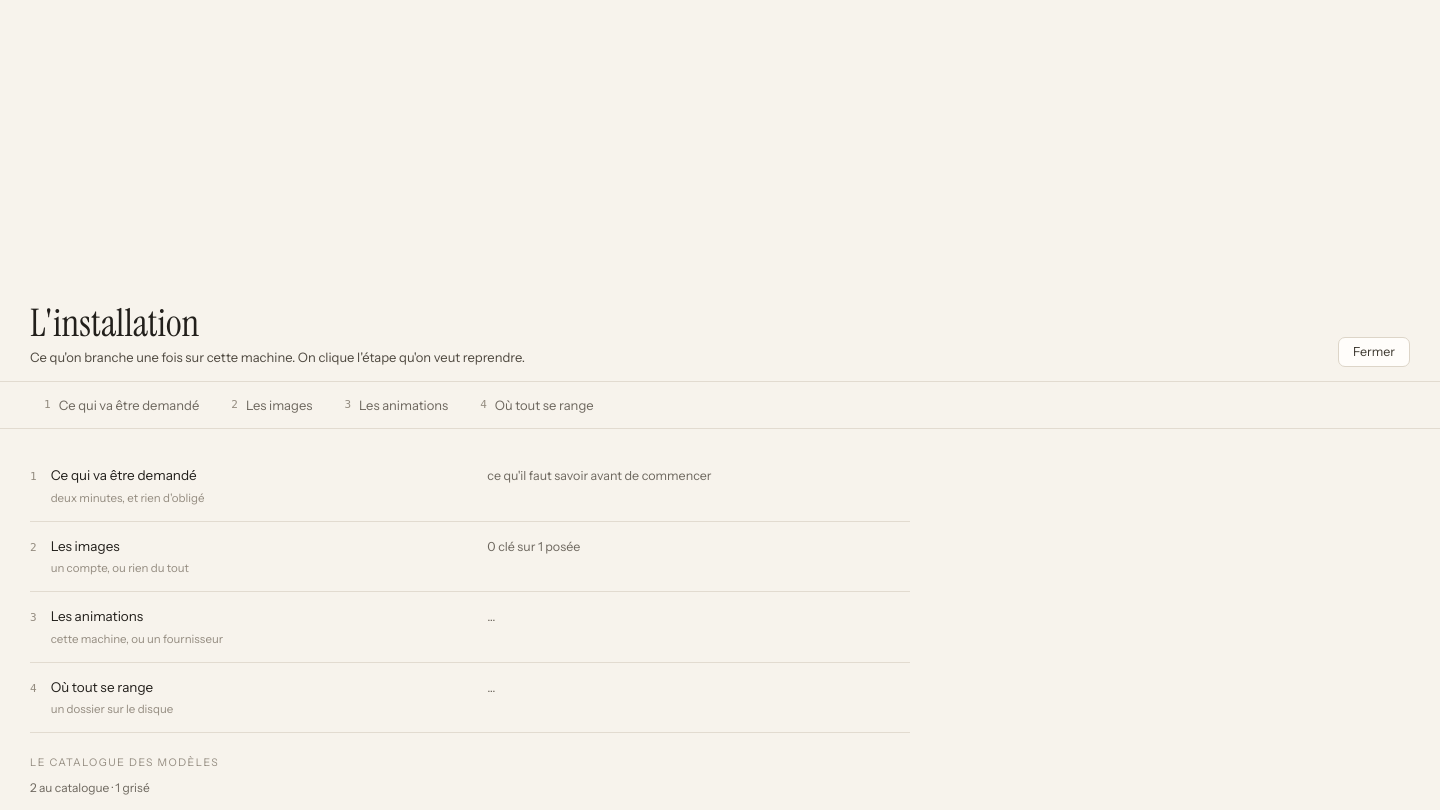
Test: la clé se pose, et ne se relit jamais › la vérification annonce ce que le serveur a compté, sans le recomposer
The width and height of the screenshot is (1440, 810).
(page scrolled)
Click the button "2 Les images" at point(272, 405), box [217,390,326,420]
(page scrolled)
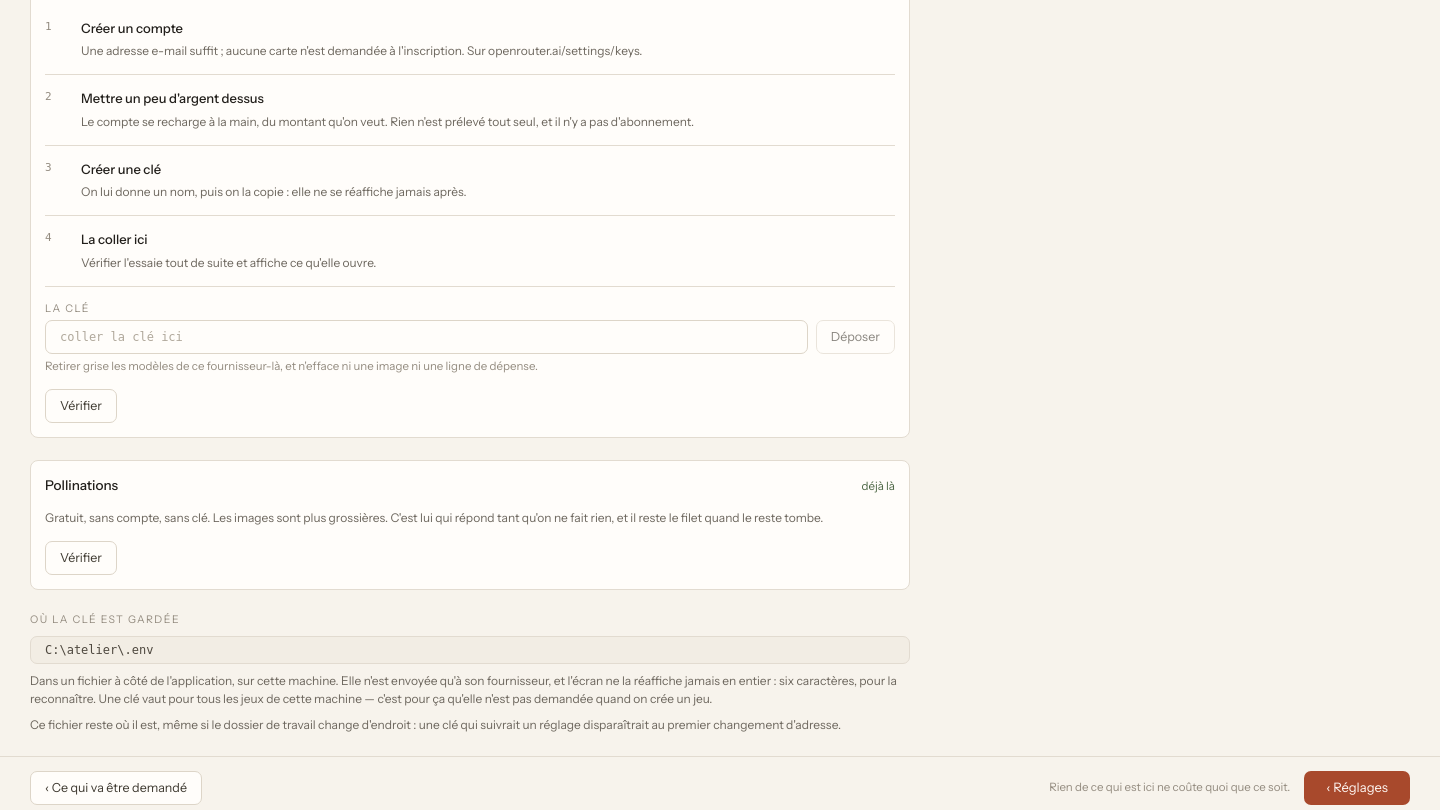
Click the button "Vérifier" below "La coller ici" at point(81, 406), box [45,389,117,423]
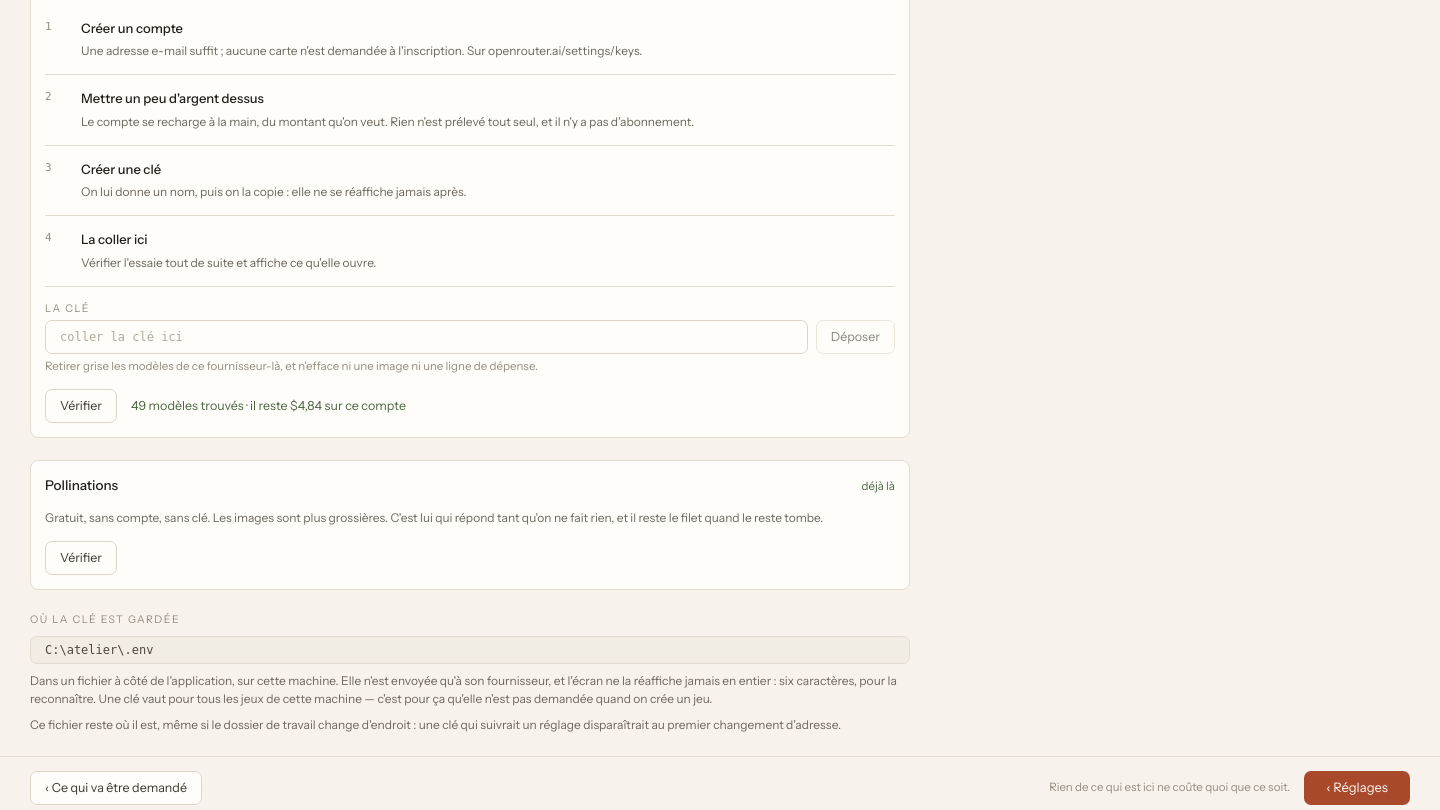
Expected: the text "49 modèles trouvés · il reste $4,84 sur ce compte" is shown, [131,397,406,415]
